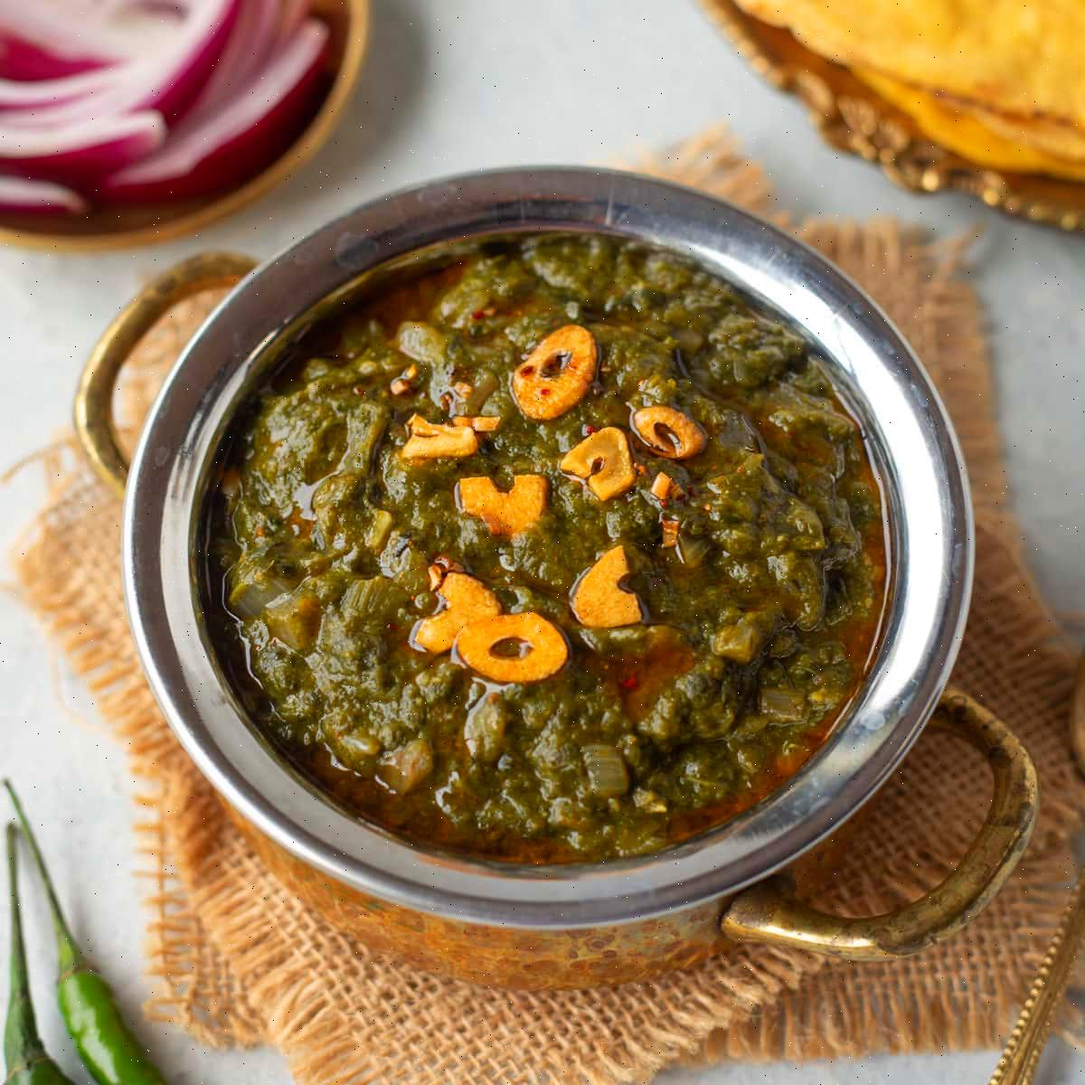saag: (219, 254, 902, 859)
